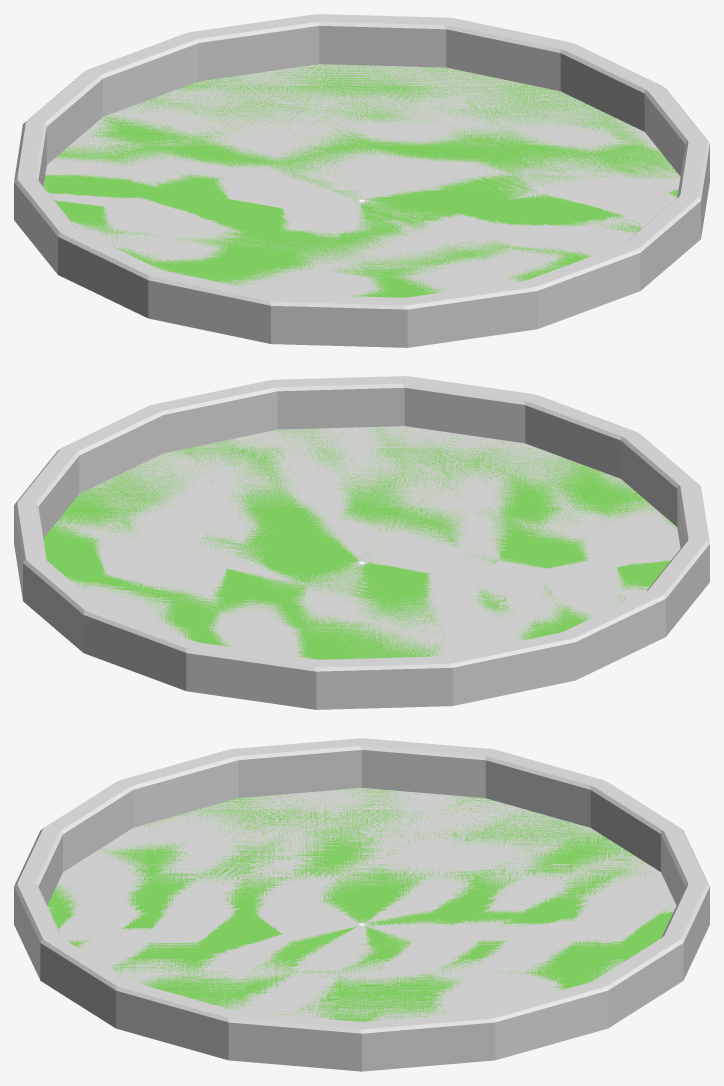
The model's file is GolfTestGreen.fbx.
3 views of the same model, one above another, from view 1: azimuth 30°, elevation 25°; view 2: azimuth 150°, elevation 25°; view 3: azimuth 270°, elevation 25° (orthographic).
Visible parts, largest first — view 1: TestHole_Walls, TestHole.NoWalls; view 2: TestHole_Walls, TestHole.NoWalls; view 3: TestHole_Walls, TestHole.NoWalls.
Part boxes in pixels (<box>): TestHole_Walls: <box>14,14,709,347</box>; TestHole.NoWalls: <box>43,64,680,296</box>; TestHole_Walls: <box>14,376,709,709</box>; TestHole.NoWalls: <box>53,426,680,658</box>; TestHole_Walls: <box>14,738,709,1071</box>; TestHole.NoWalls: <box>47,788,676,1021</box>.
Size of the model in its own units: 1348 by 87.07 by 1348.
